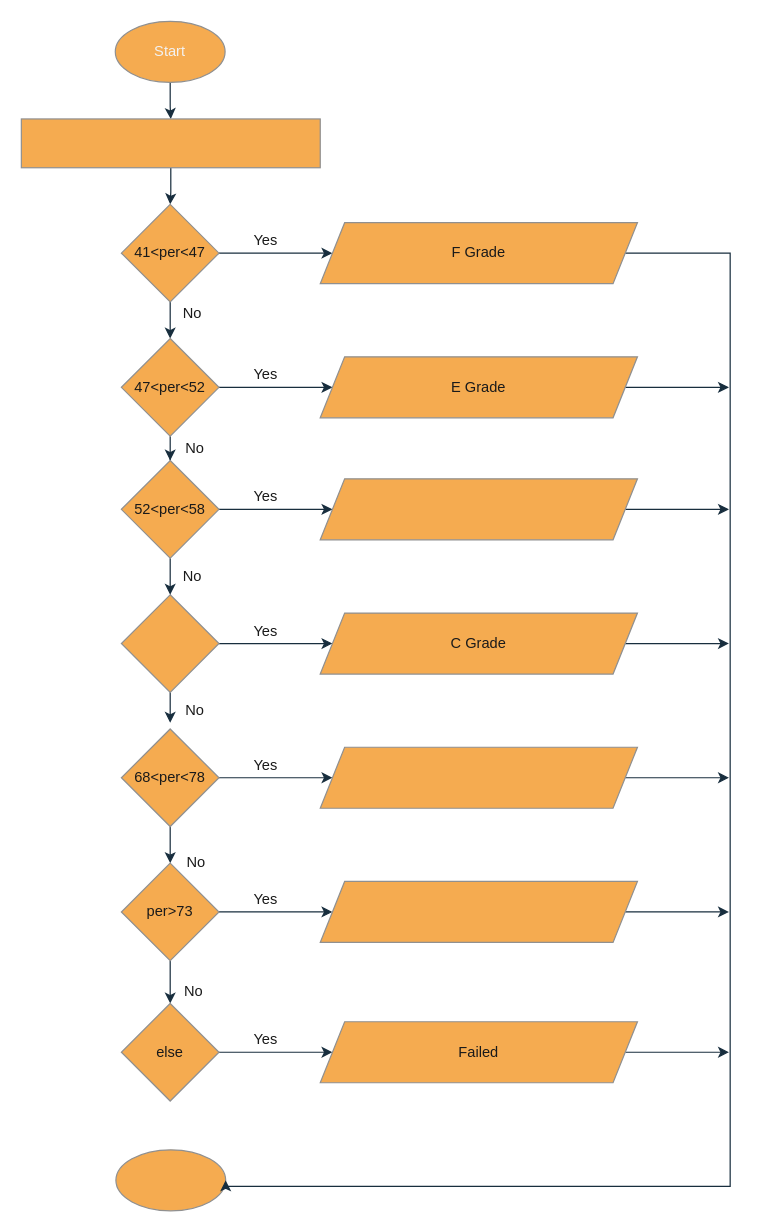
This 761x1232 diagram has some shape labels left out. Here are the shapes that lost their labels. From the top down, the centre of each, then its label:
the point at 170,143: Enter Percentage
the point at 478,509: D Grade
the point at 169,643: 58<per<68
the point at 478,777: B Grade
the point at 478,911: A Grade
the point at 170,1180: Stop
